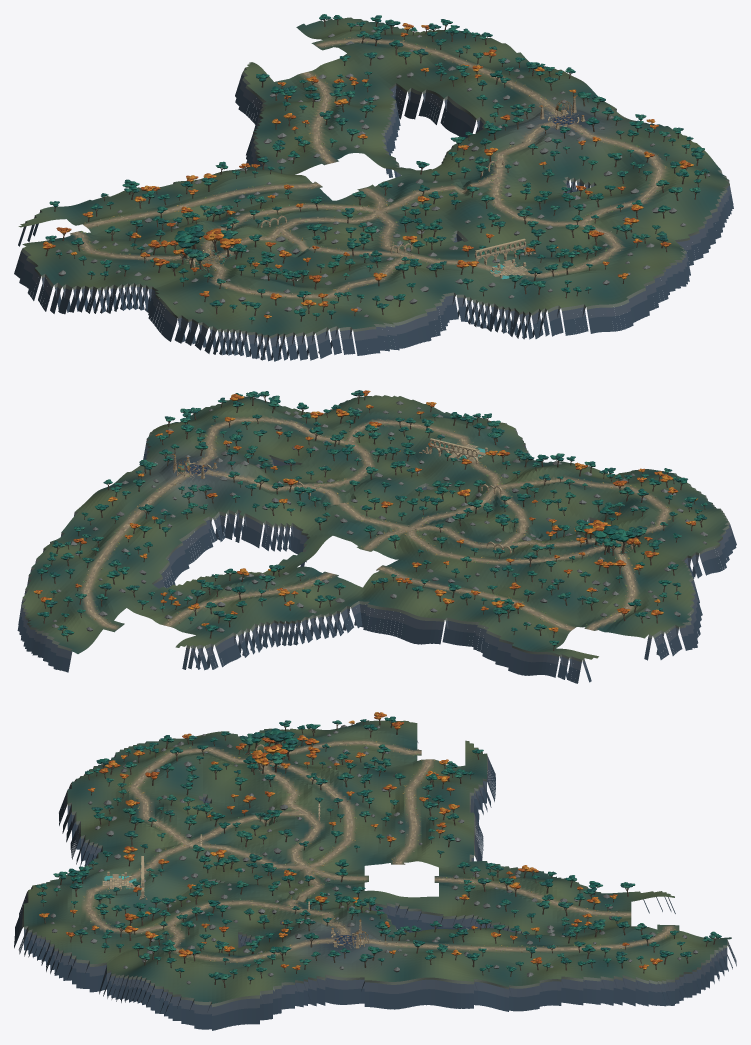
File: outer_land_1.glb
3 views of the same model, one above another, from view 1: azimuth 30°, elevation 25°; view 2: azimuth 150°, elevation 25°; view 3: azimuth 270°, elevation 25° (orthographic). The views are drawn at different scales.
Visible parts, largest first — view 1: Ground_13_12-col, Ground_7_15-col, Ground_12_11-col, Ground_12_6-col, Ground_14_14-col, Ground_11_16-col, Ground_5_15-col, Ground_10_16-col, Ground_4_14-col, Ground_14_12-col, Detail_5_12, Ground_12_16-col (+107 smaller); view 2: Detail_12_10, Ground_5_10-col, Ground_13_10-col, Detail_7_8, Detail_5_8, Ground_13_7-col, Ground_12_10-col, Ground_6_10-col, Detail_8_8, Detail_9_7, Ground_7_13-col, Ground_4_13-col (+111 smaller); view 3: Ground_15_13-col, Detail_14_5, Ground_6_13-col, Detail_15_14, Detail_15_11, Detail_15_10, Detail_15_9, Ground_6_12-col, Detail_15_8, Ground_8_10-col, Detail_15_7, Ground_8_14-col (+108 smaller).
Part boxes in pixels (x1,y1,x2,y2): Ground_13_12-col: (541,141,613,186); Ground_7_15-col: (345,280,416,320); Ground_12_11-col: (468,132,540,176); Ground_12_6-col: (335,52,406,99); Ground_14_14-col: (640,175,712,218); Ground_11_16-col: (555,264,627,301); Ground_5_15-col: (254,300,324,335); Ground_10_16-col: (509,275,581,313); Ground_4_14-col: (180,289,251,329); Ground_14_12-col: (587,132,659,174); Detail_5_12: (176,224,243,270); Ground_12_16-col: (601,250,666,292); Detail_12_10: (215,476,285,548); Ground_5_10-col: (525,569,592,614); Ground_13_10-col: (173,472,239,513); Detail_7_8: (397,586,452,644); Detail_5_8: (482,605,544,675); Ground_13_7-col: (97,535,165,574); Ground_12_10-col: (219,482,285,522); Ground_6_10-col: (485,563,549,600); Detail_8_8: (351,578,400,636); Detail_9_7: (278,591,336,645); Ground_7_13-col: (513,496,581,534); Ground_4_13-col: (645,520,713,557); Ground_15_13-col: (190,964,242,1003); Detail_14_5: (608,948,663,1006); Ground_6_13-col: (190,771,242,810); Detail_15_14: (132,951,190,1024); Detail_15_11: (294,959,347,1007); Detail_15_10: (347,954,399,1009); Detail_15_9: (397,954,451,1008); Ground_6_12-col: (242,773,294,810); Detail_15_8: (452,968,504,1010); Ground_8_10-col: (347,827,399,859); Detail_15_7: (504,969,556,1011); Ground_8_14-col: (137,817,189,848).
Size of the model in its own units: 487 by 58.44 by 497.
